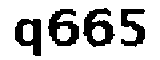5: (118, 6, 147, 56)
6: (84, 6, 115, 52), (49, 6, 79, 52)
q: (13, 18, 44, 60)
